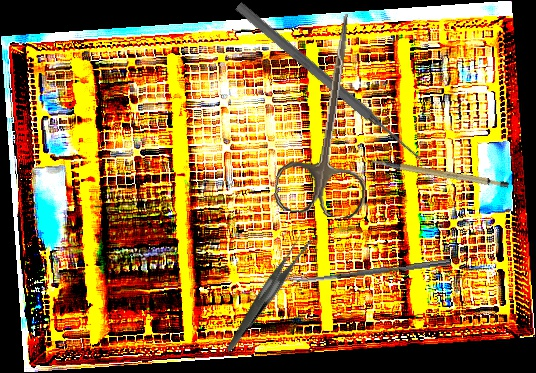Dressing Forceps: (198, 231, 335, 352)
Iris Scissors: (272, 7, 387, 221)
Pusher: (233, 0, 425, 165)
Scalpel Handle: (369, 138, 510, 206)
Surgical Spoon: (287, 258, 451, 285)
